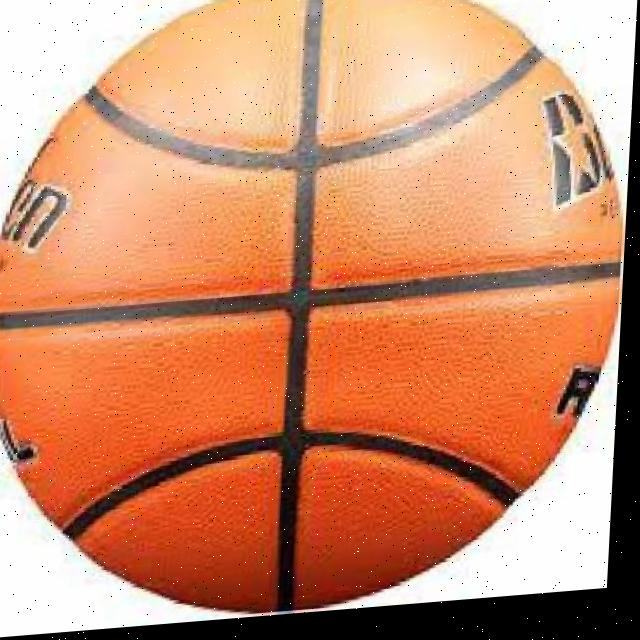Basketball: (0, 0, 632, 631)
